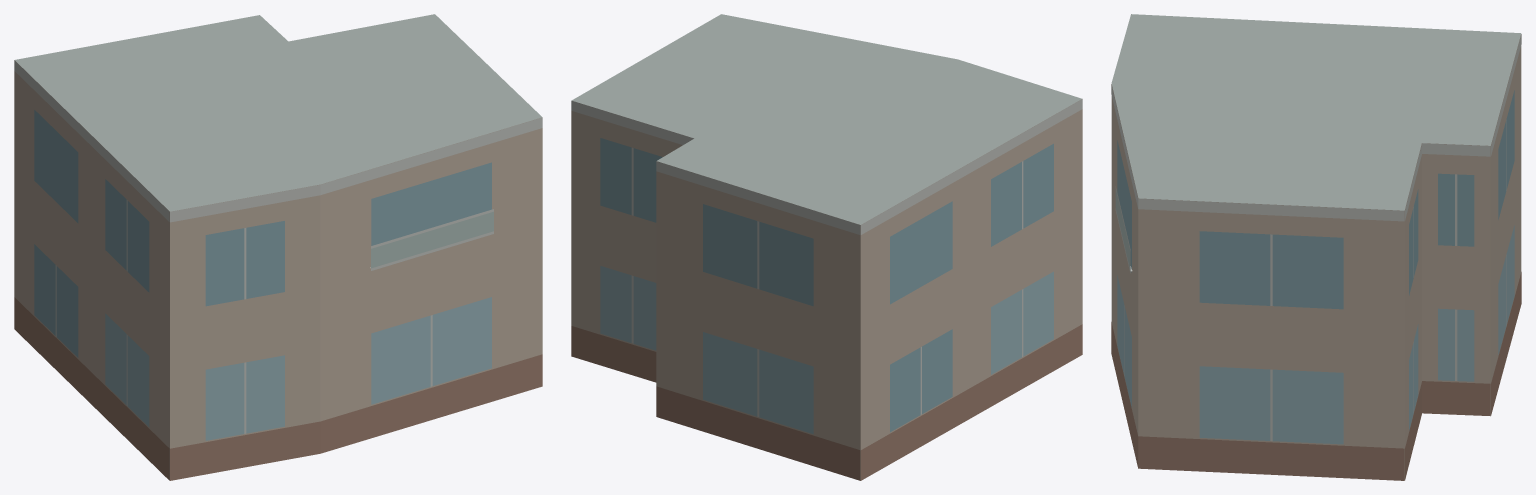
File: survey-upis-32801186.glb
3 renders of one model, left to right at view 1: azimuth 30°, elevation 25°; view 2: azimuth 150°, elevation 25°; view 3: azimuth 270°, elevation 25°, orthographic. The views are drawn at different scales.
Visible parts, largest first — view 1: survey-upis-32801186.tmp; view 2: survey-upis-32801186.tmp; view 3: survey-upis-32801186.tmp.
Boxes of the visible parts, x1,y1,x2,y2 form: survey-upis-32801186.tmp: (14, 14, 542, 480); survey-upis-32801186.tmp: (571, 14, 1082, 480); survey-upis-32801186.tmp: (1111, 14, 1521, 480).
Bounding box in the file's own units: 9.53 × 6.1 × 8.4.
